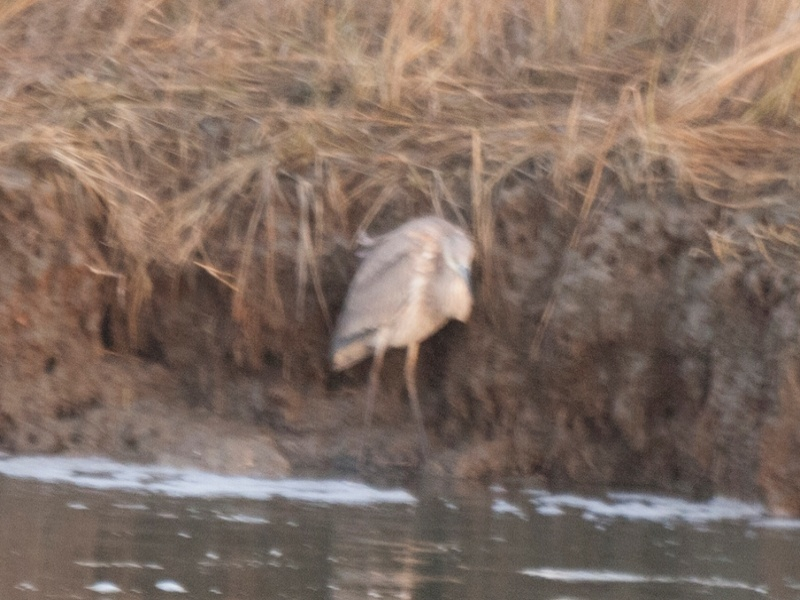heron: (329, 209, 477, 425)
